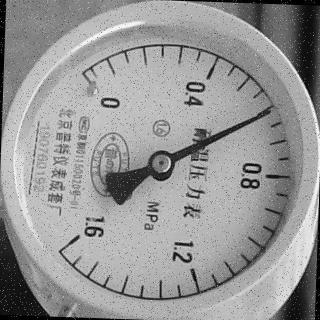gauge: (0, 0, 320, 320), (69, 65, 125, 115), (60, 221, 95, 256), (145, 148, 177, 182), (260, 106, 274, 120)
